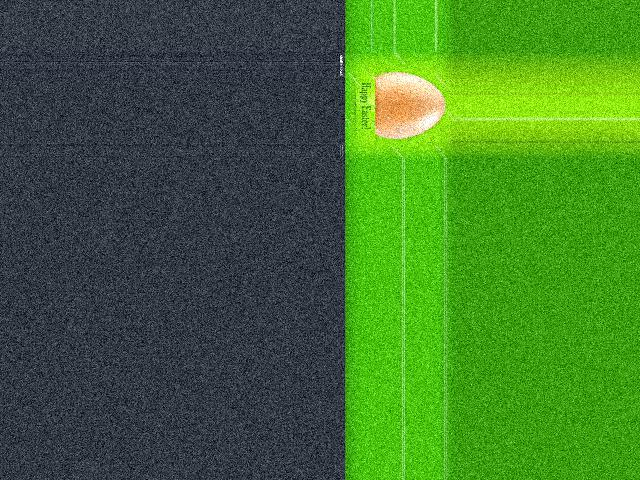egg: (375, 72, 445, 139)
